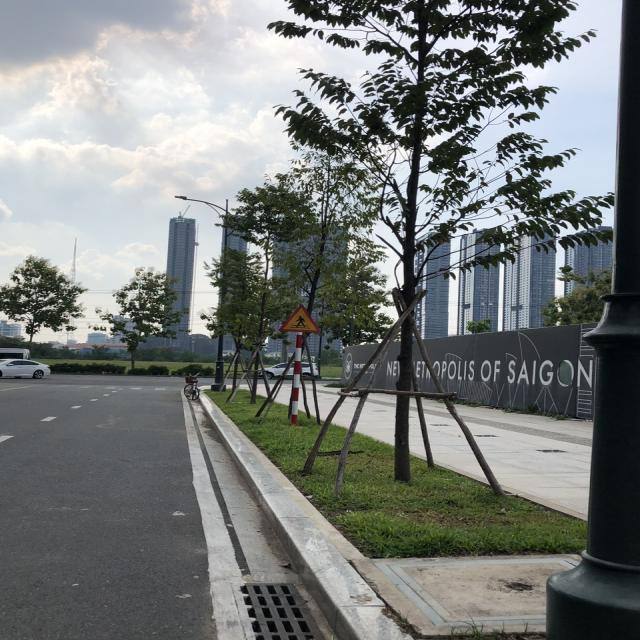Bien bao duong nguoi di bo cat ngang: (277, 301, 321, 336)
